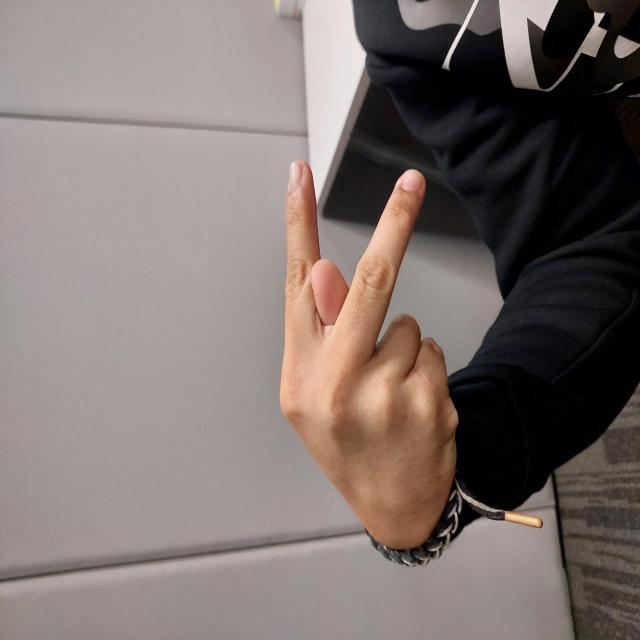K: (79, 277, 481, 461)
